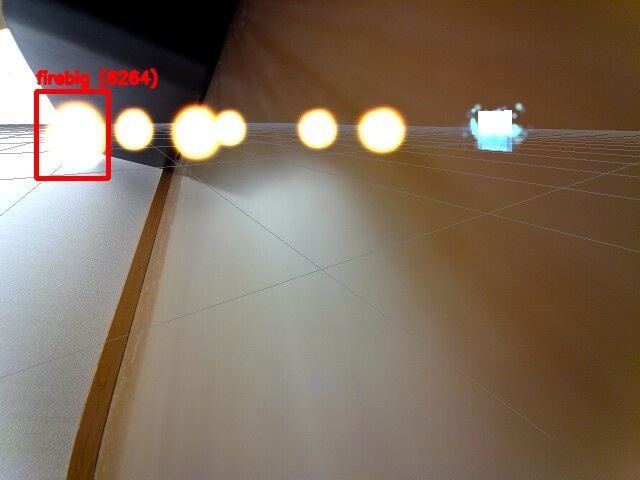firebig: (36, 91, 108, 178)
